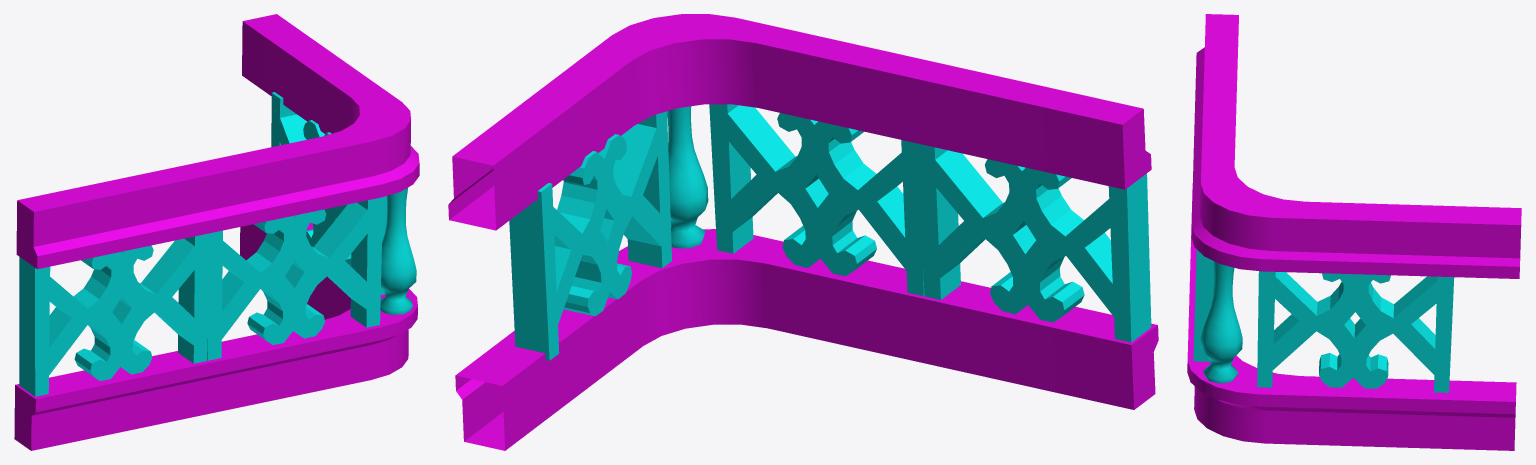
The model's file is balkuni_04.fbx.
The picture shows the model from 3 angles, left to right: view 1: azimuth 30°, elevation 25°; view 2: azimuth 150°, elevation 25°; view 3: azimuth 270°, elevation 25°; orthographic projection. The views are drawn at different scales.
Visible parts, largest first — view 1: polySurface232, polySurface233, polySurface229, polySurface228, polySurface230, polySurface231; view 2: polySurface232, polySurface233, polySurface229, polySurface228, polySurface231, polySurface230; view 3: polySurface232, polySurface233, polySurface231, polySurface230, polySurface228.
Boxes of the visible parts, x1,y1,x2,y2 form: polySurface232: (16, 14, 419, 269); polySurface233: (14, 222, 417, 450); polySurface229: (19, 233, 209, 396); polySurface228: (207, 197, 382, 360); polySurface230: (380, 187, 416, 314); polySurface231: (271, 92, 386, 294); polySurface232: (448, 14, 1151, 230); polySurface233: (455, 229, 1158, 450); polySurface229: (917, 144, 1151, 342); polySurface228: (709, 104, 924, 296); polySurface231: (509, 111, 671, 360); polySurface230: (667, 106, 708, 248); polySurface232: (1191, 14, 1521, 278); polySurface233: (1187, 190, 1516, 450); polySurface231: (1257, 271, 1454, 392); polySurface230: (1200, 260, 1242, 383); polySurface228: (1193, 249, 1213, 361).
Size of the model in its own units: 283 by 166 by 203.
